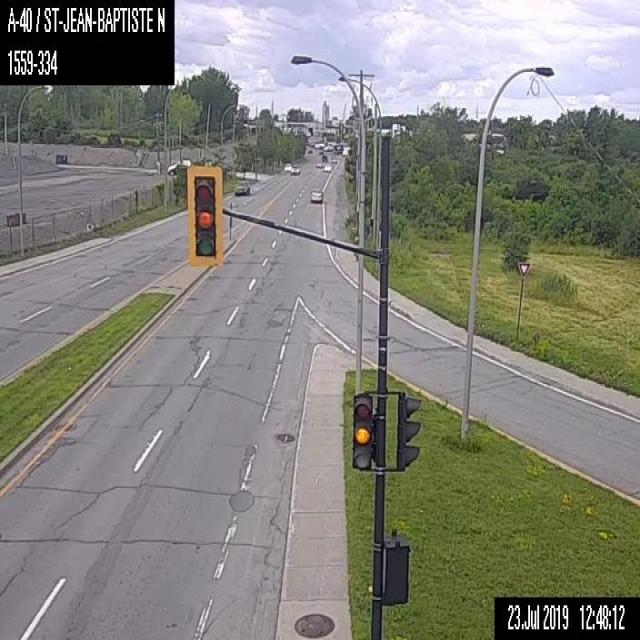vehicle: (309, 186, 323, 202), (234, 183, 250, 196), (291, 164, 299, 174), (324, 162, 332, 170), (284, 162, 292, 170), (321, 154, 326, 161)
